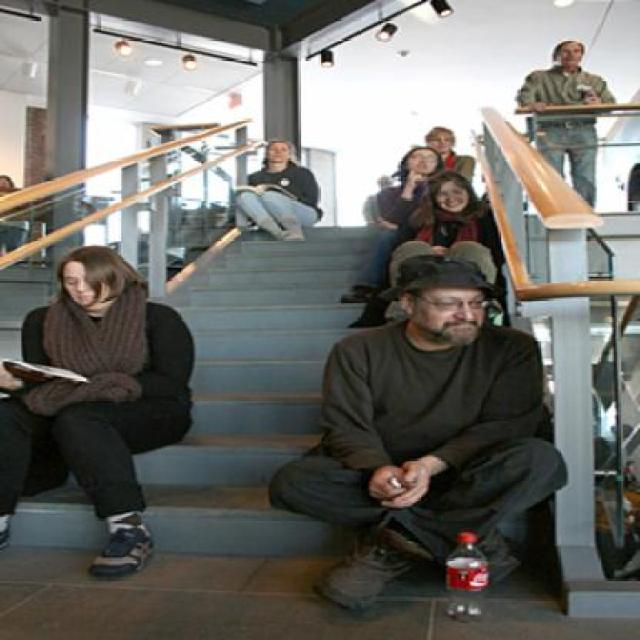stair: (12, 223, 397, 559)
